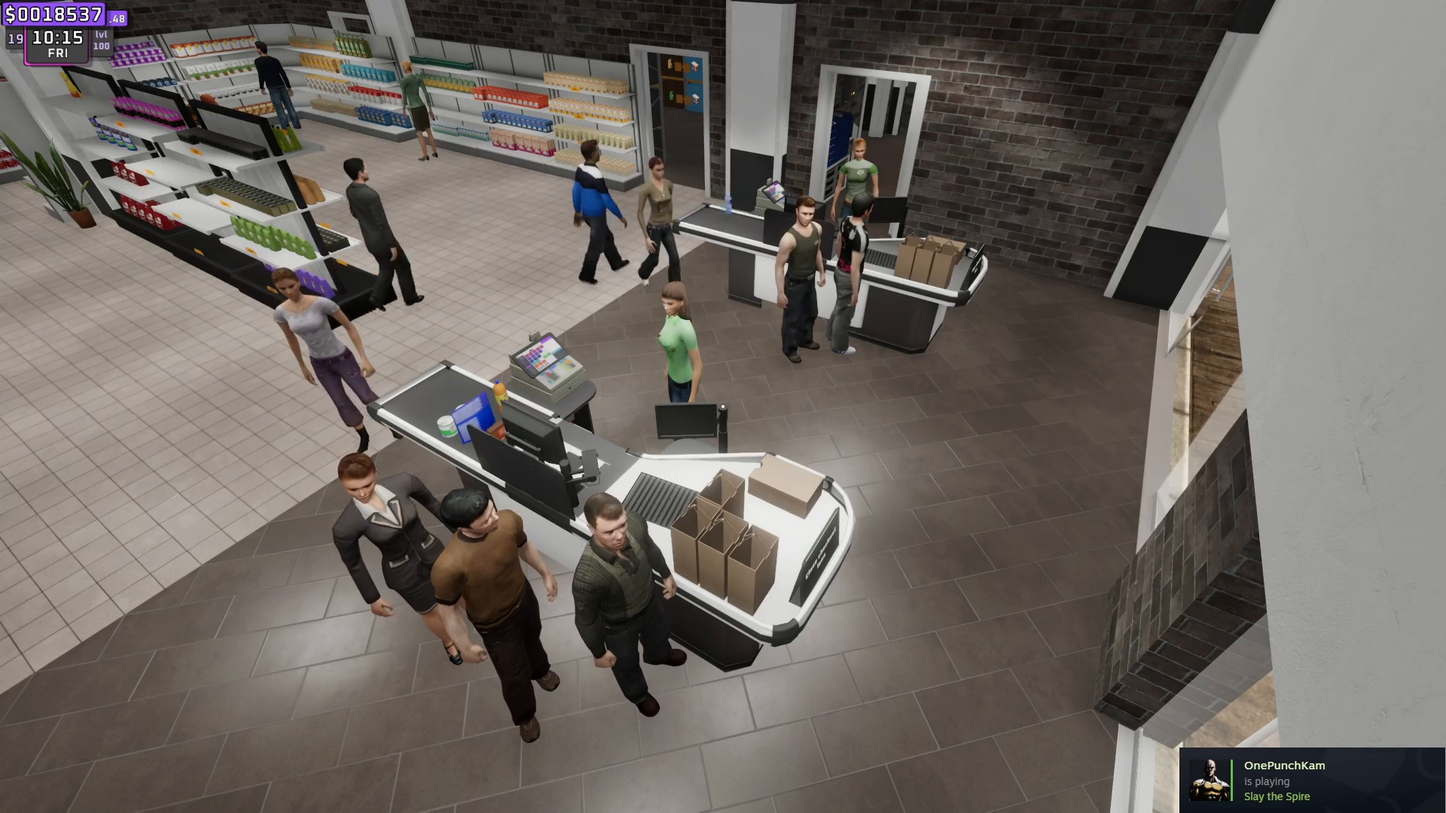Client: (429, 488, 563, 724), (579, 491, 697, 705), (330, 465, 461, 656), (264, 275, 390, 441), (841, 200, 889, 377), (771, 202, 821, 364), (569, 137, 624, 280), (637, 154, 684, 284)
Employee: (645, 283, 705, 401), (839, 129, 878, 231)
